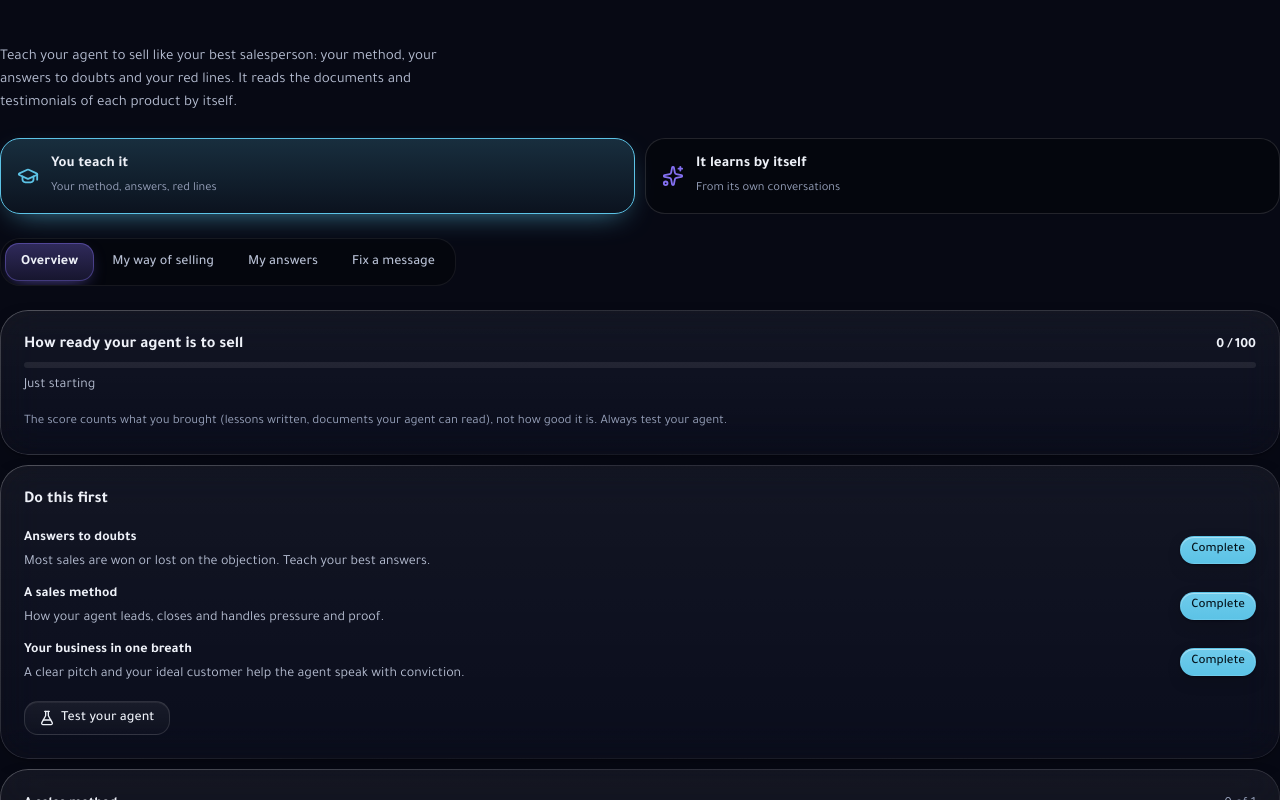
Scenario: Train your agent › lets the client try a sentence, then try it again after saving to compare
This screenshot has width=1280, height=800.
Click the tab "Fix a message" at (393, 262), box [336,243,451,281]
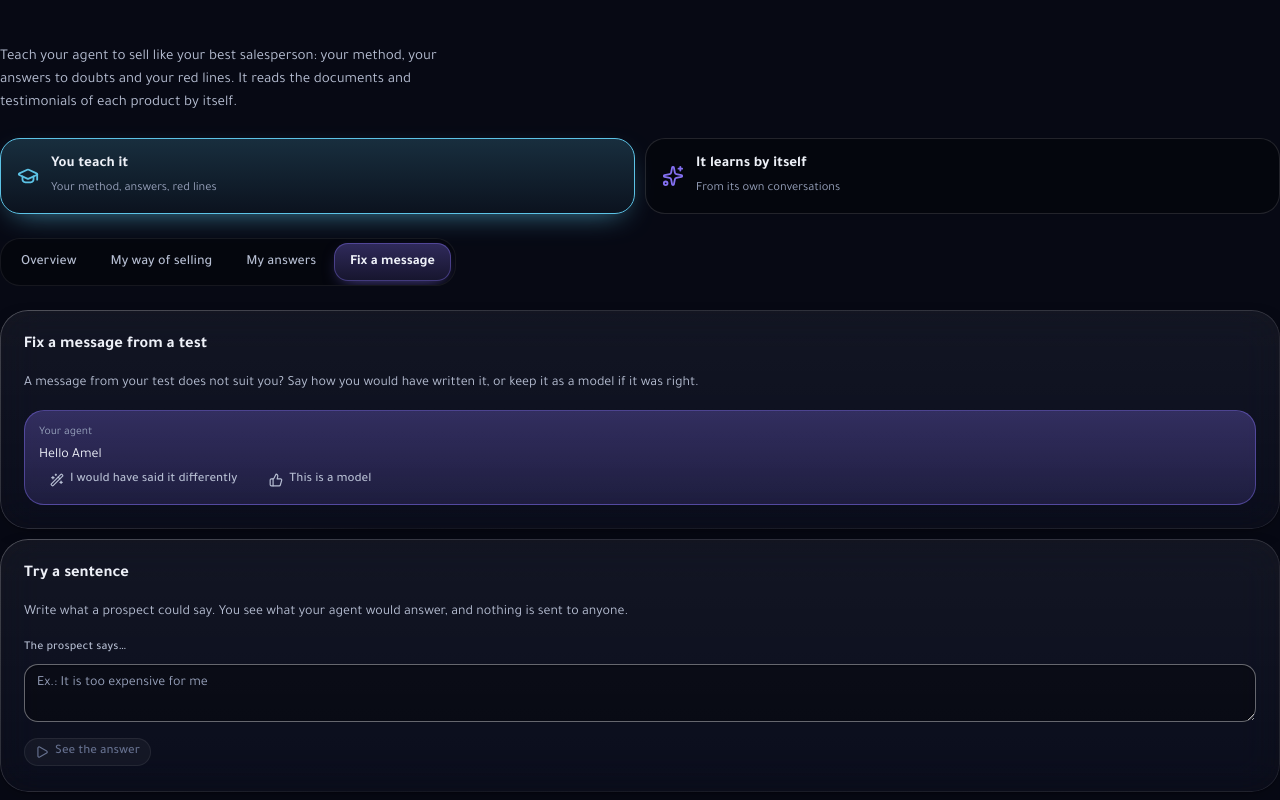
Expected: the button "See the answer" is disabled, [24,738,151,766]
Type "Too expensive" into the text box labelled "The prospect says…" at (640, 693), box [24,664,1256,722]
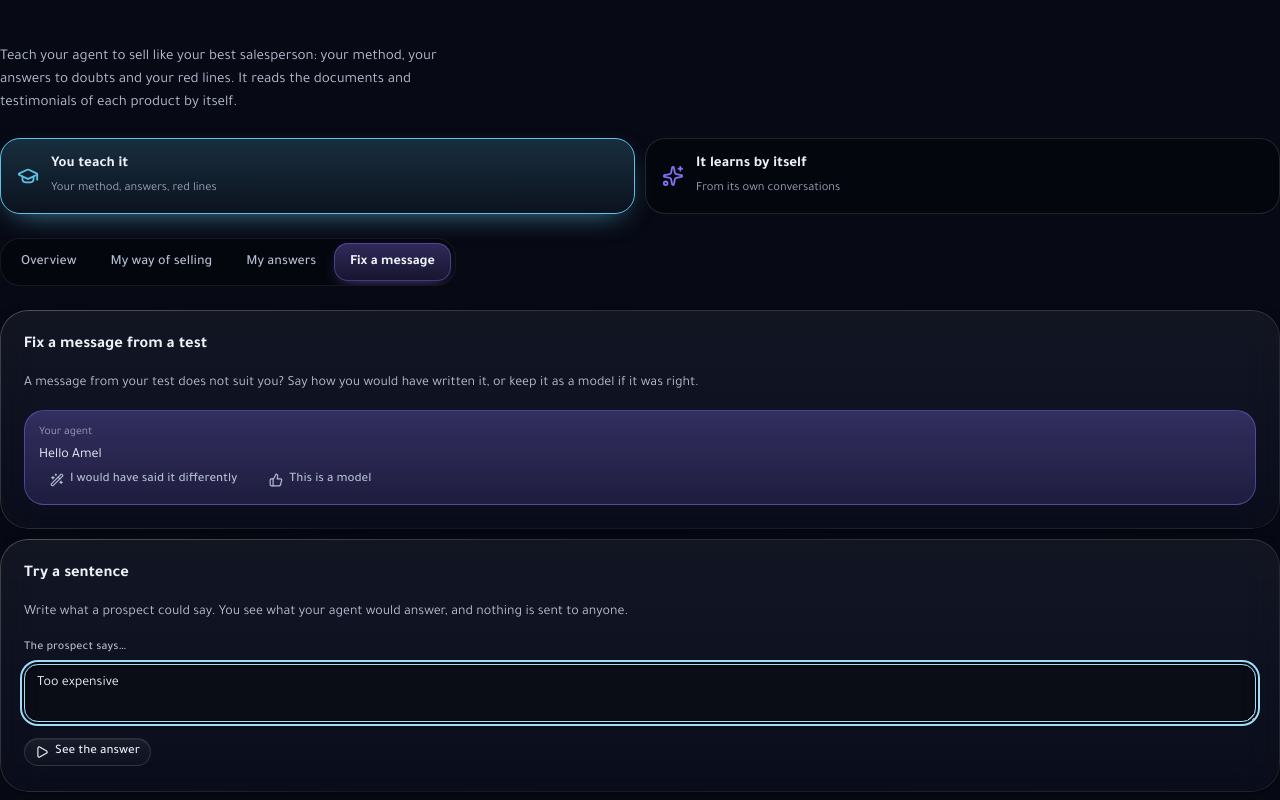
Click the button "See the answer" at (88, 752), box [24,738,151,766]
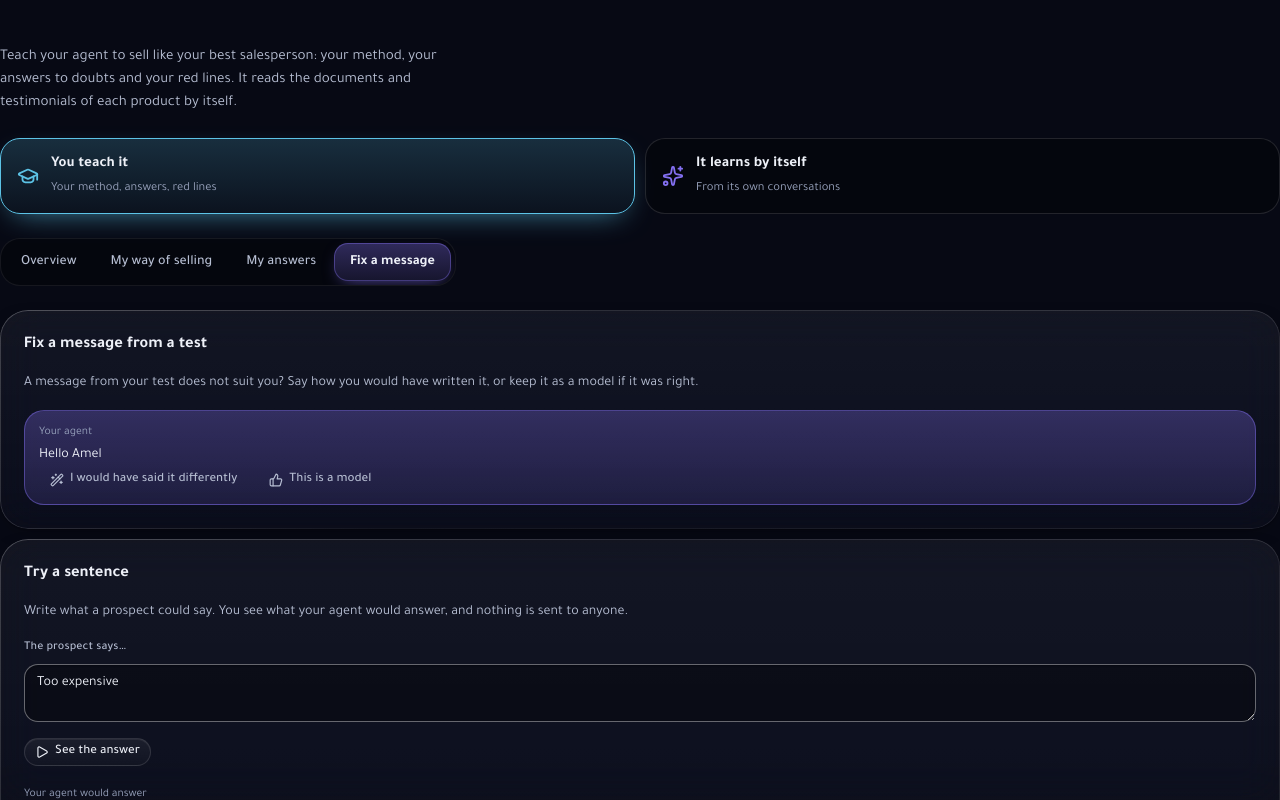
Click the button "See the answer" at (88, 752), box [24,738,151,766]
(page scrolled)
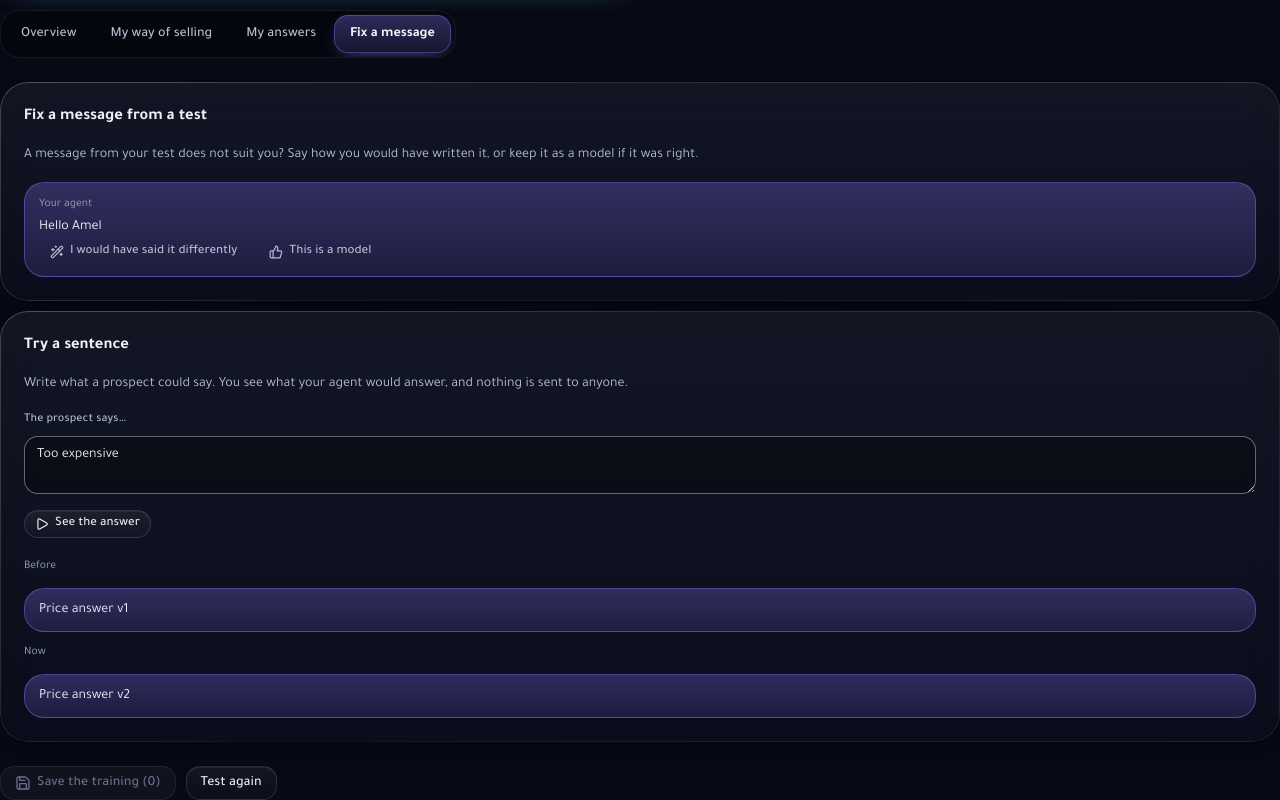
Expected: the text "Price answer v1" is shown, [24,588,1256,632]
Expected: the text "Price answer v2" is shown, [24,674,1256,718]
